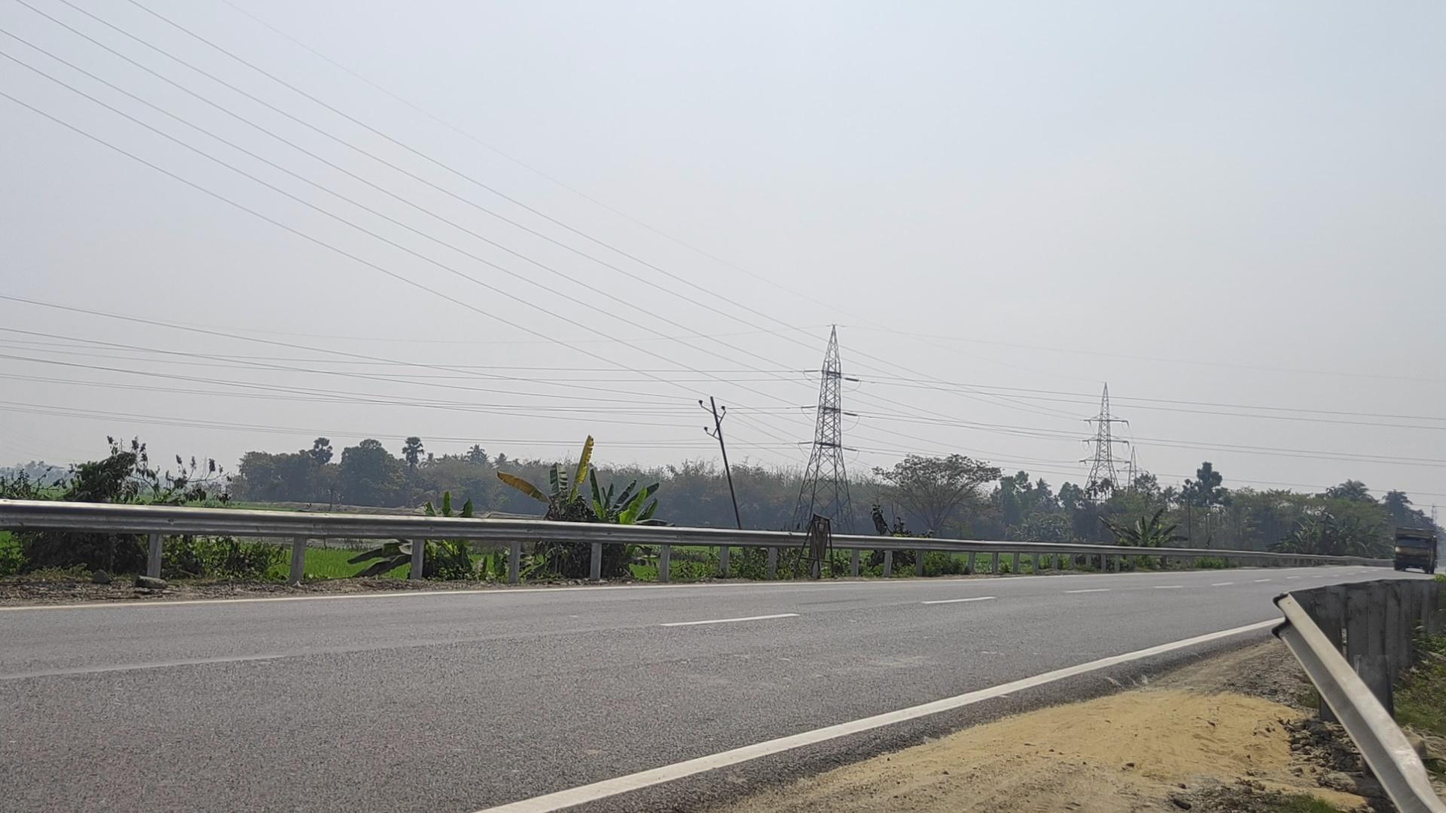truck: (1393, 527, 1439, 574)
